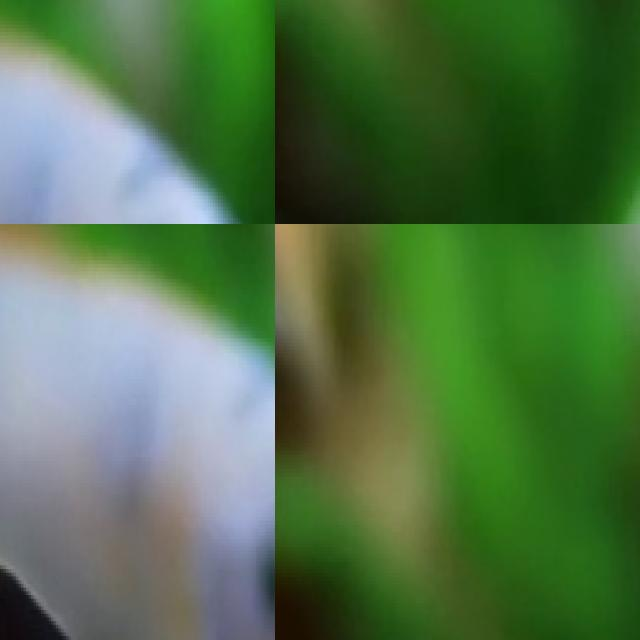fish: (0, 256, 186, 640), (0, 0, 275, 224), (275, 224, 334, 435)
